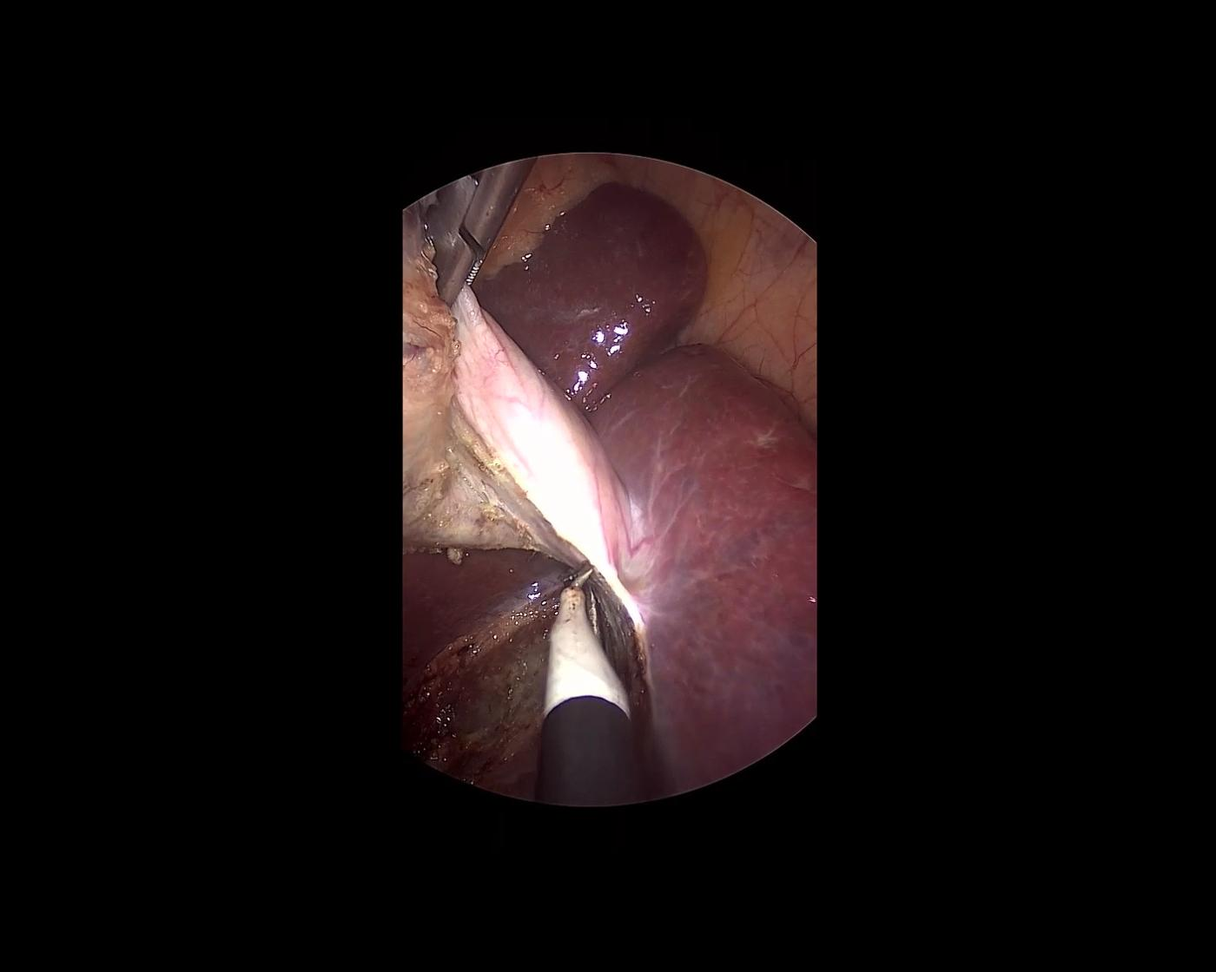Cautery: (521, 560, 633, 809)
Forceps: (389, 122, 537, 313)
Gallbladder: (265, 178, 681, 706)
Liver: (454, 146, 901, 805)
